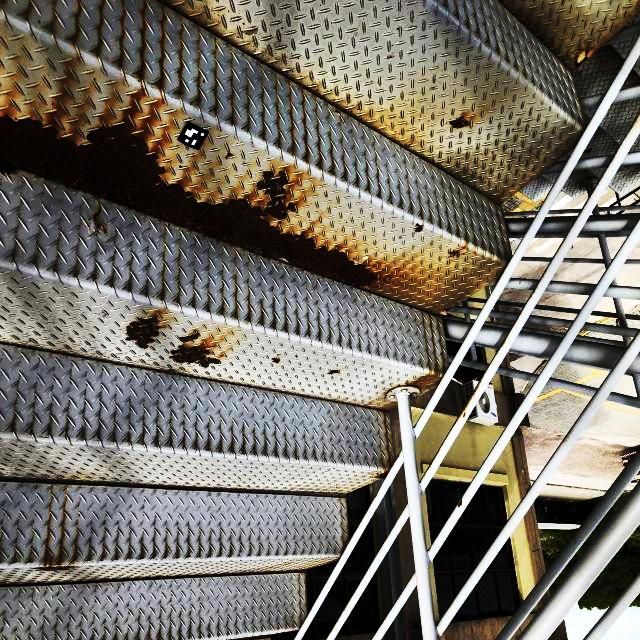Corrosion: (0, 113, 378, 287), (125, 317, 161, 348), (169, 346, 221, 367), (574, 48, 589, 69), (448, 115, 469, 129), (176, 332, 199, 343), (33, 566, 75, 571), (93, 215, 101, 229), (375, 471, 388, 479), (414, 223, 423, 233), (327, 369, 338, 375), (444, 307, 455, 313), (450, 250, 459, 257), (583, 147, 592, 154), (226, 152, 234, 159), (271, 358, 280, 363), (458, 498, 462, 508), (463, 412, 466, 418)
